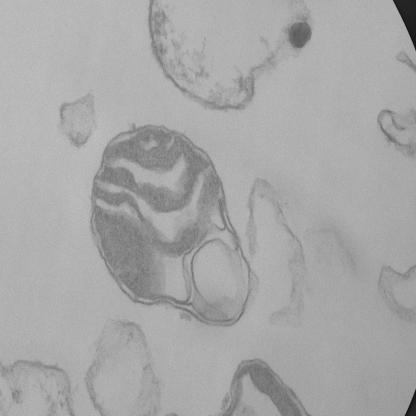mitochondria: (88, 121, 252, 342)
